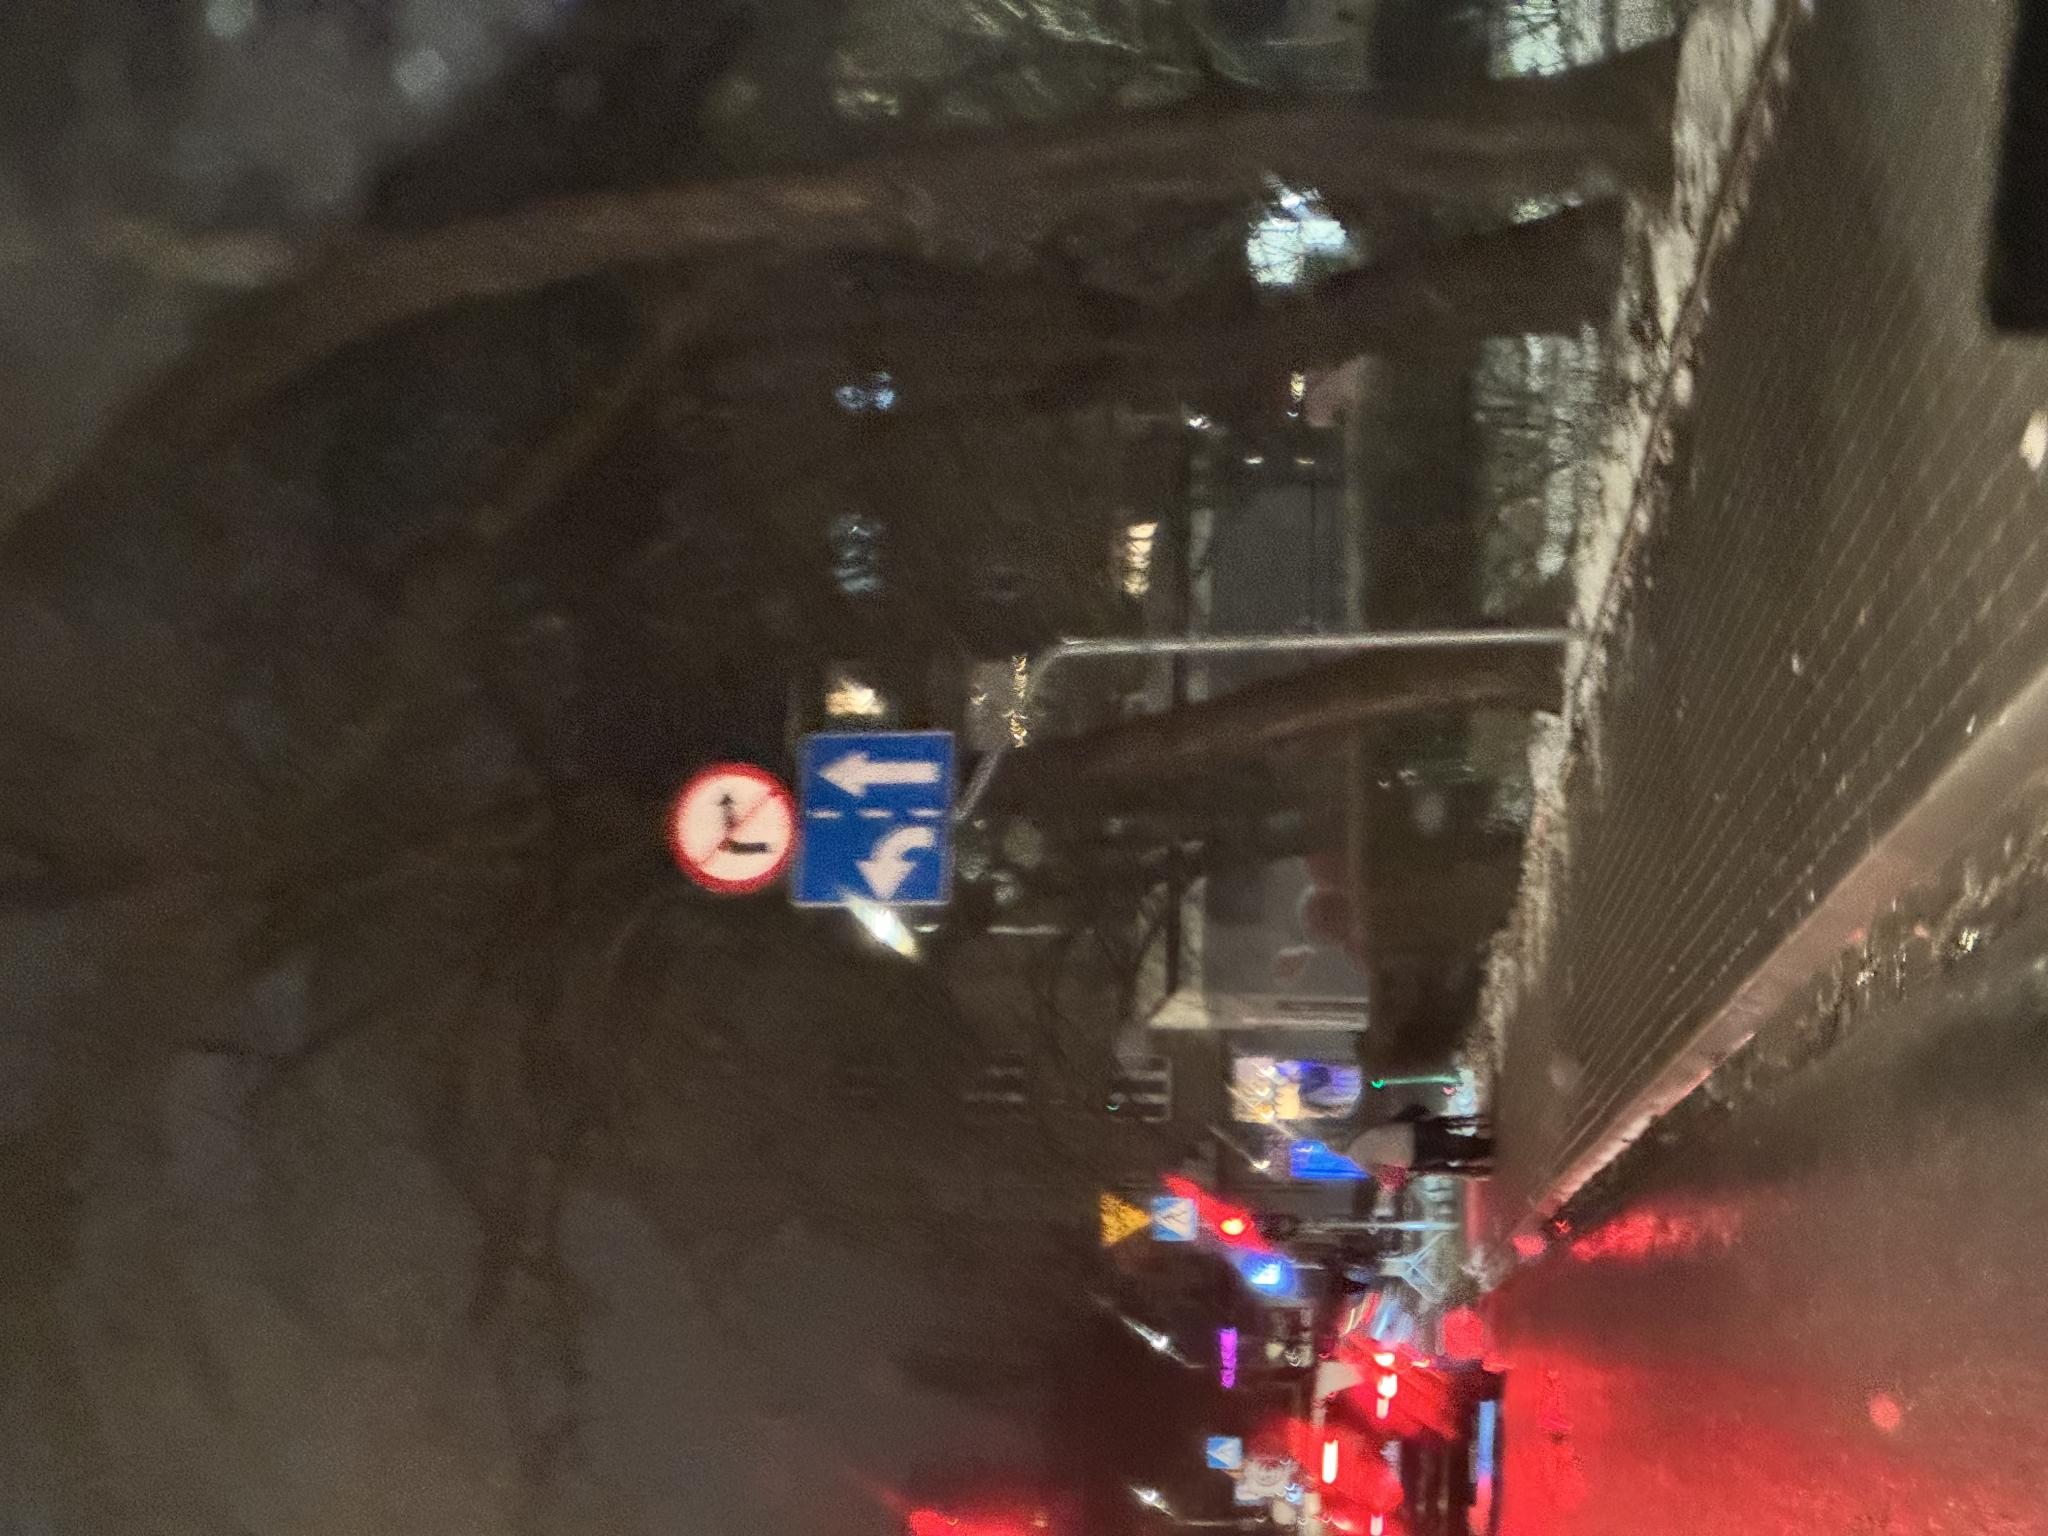information: (295, 1150, 339, 1197)
other: (627, 792, 811, 958)
prohibitory: (639, 662, 777, 795)
warning: (285, 1099, 350, 1154)
